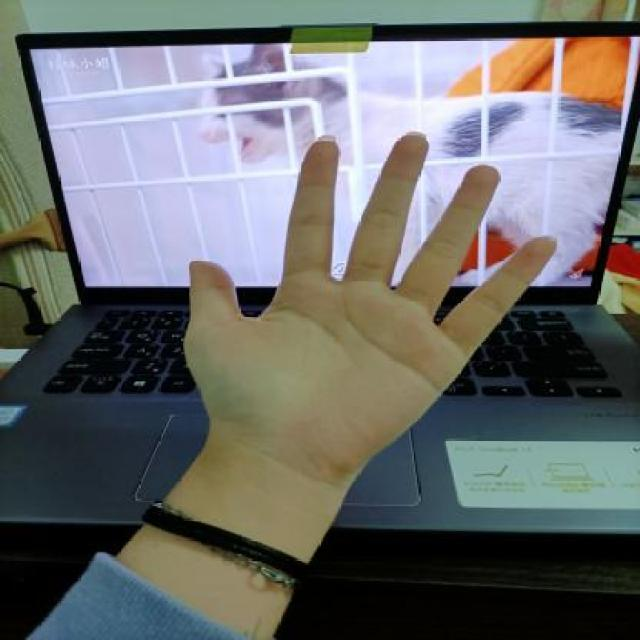bare_hand: (171, 121, 574, 486)
